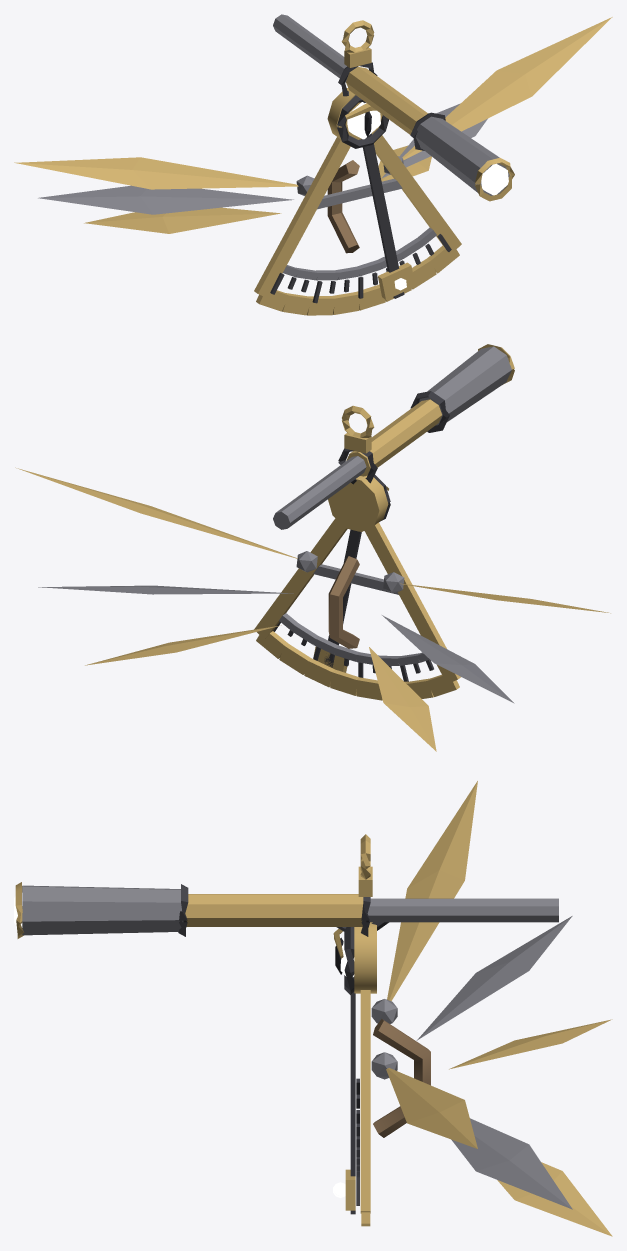
The model's file is astrolabe-long-sight.glb.
3 views of the same model, one above another, from view 1: azimuth 30°, elevation 25°; view 2: azimuth 150°, elevation 25°; view 3: azimuth 270°, elevation 25° (orthographic). The views are drawn at different scales.
Visible parts, largest first — view 1: astrolabe_long_sight; view 2: astrolabe_long_sight; view 3: astrolabe_long_sight.
Part boxes in pixels (<box>): astrolabe_long_sight: <box>14,14,612,315</box>; astrolabe_long_sight: <box>15,344,610,751</box>; astrolabe_long_sight: <box>14,781,612,1236</box>.
Size of the model in its own units: 1.16 by 0.5337 by 0.7964.
